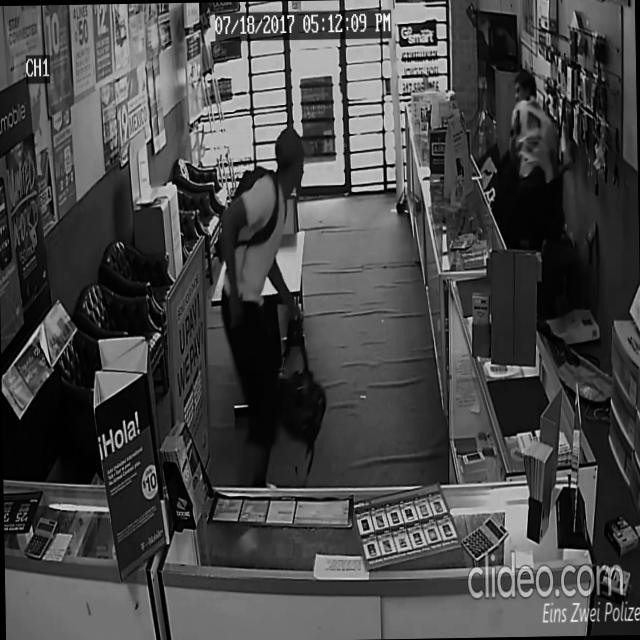gun: (229, 304, 250, 342)
person: (498, 63, 566, 294)
person with a gun: (212, 125, 326, 492)
